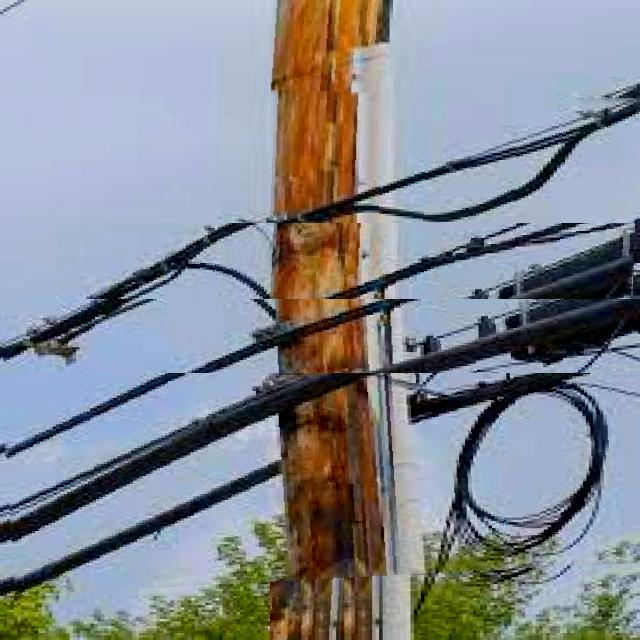pole: (270, 0, 382, 640)
wire: (0, 95, 640, 362), (9, 299, 640, 544), (0, 223, 615, 457), (11, 373, 636, 595)
